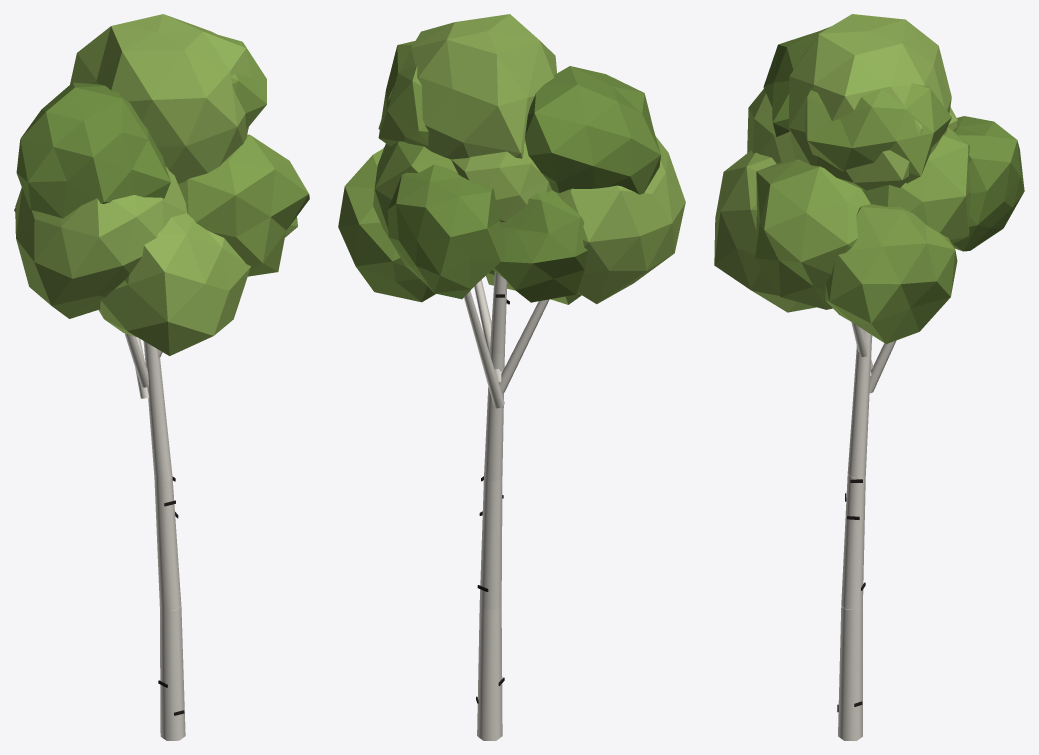
File: derevo_bereza.glb
The picture shows the model from 3 angles, left to right: view 1: azimuth 30°, elevation 25°; view 2: azimuth 150°, elevation 25°; view 3: azimuth 270°, elevation 25°; orthographic projection.
Parts seen in each view (by area): view 1: leaves (×6), trunk (×3), limb; view 2: leaves (×9), trunk (×4), limb (×3); view 3: leaves (×9), trunk (×3), limb.
Part boxes in pixels (x1,y1,x2,y2): leaves (×6): (15, 14, 309, 355); trunk (×3): (144, 348, 185, 740); limb: (124, 333, 148, 387); leaves (×9): (338, 14, 685, 304); trunk (×4): (477, 271, 507, 740); limb (×3): (464, 279, 549, 408); leaves (×9): (714, 14, 1024, 343); trunk (×3): (838, 341, 871, 740); limb: (869, 340, 896, 393).
Bounding box in the file's own units: 5.26 × 12.29 × 4.92.
